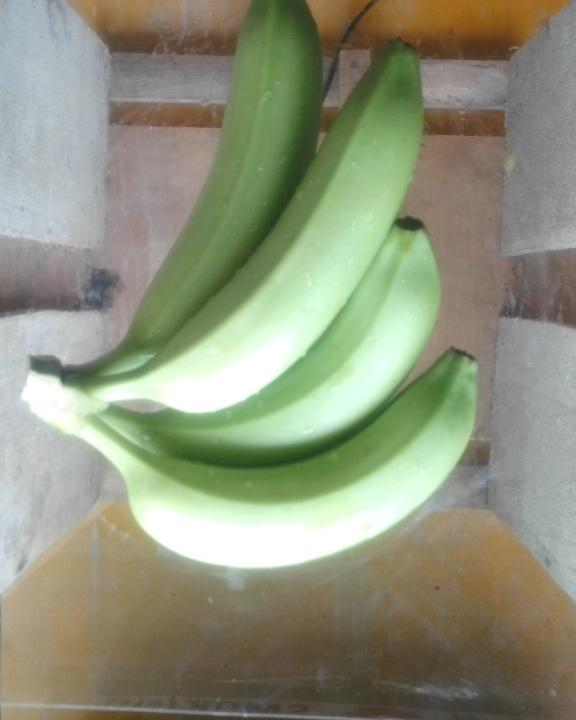SPOT: (15, 1, 488, 583)
